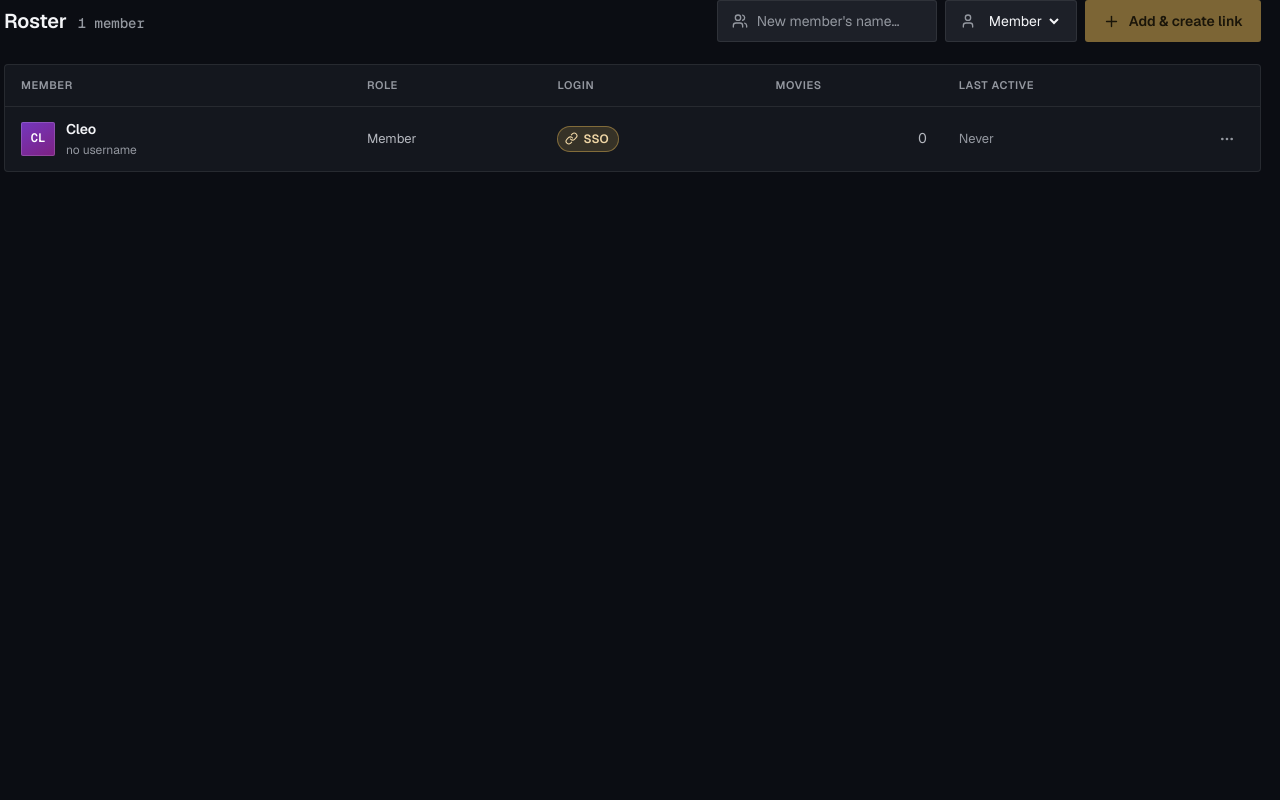
it: opening a ceremony from a member's row › offers a first set, unprefilled, for a member who has SSO but no password
Click the button named "Actions for Cleo": [1227, 138] box [1210,122,1244,156]
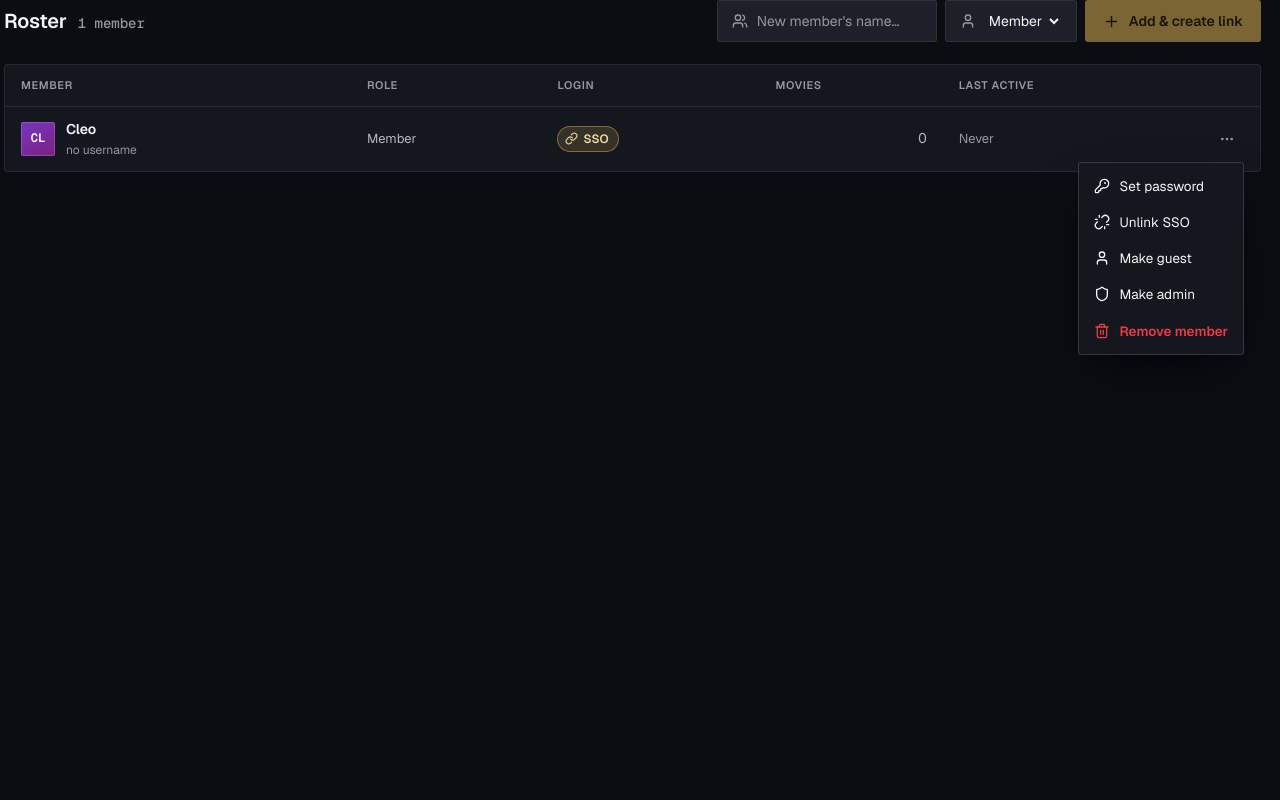
Click the menu item "Set password": [1161, 186] box [1084,168,1238,204]
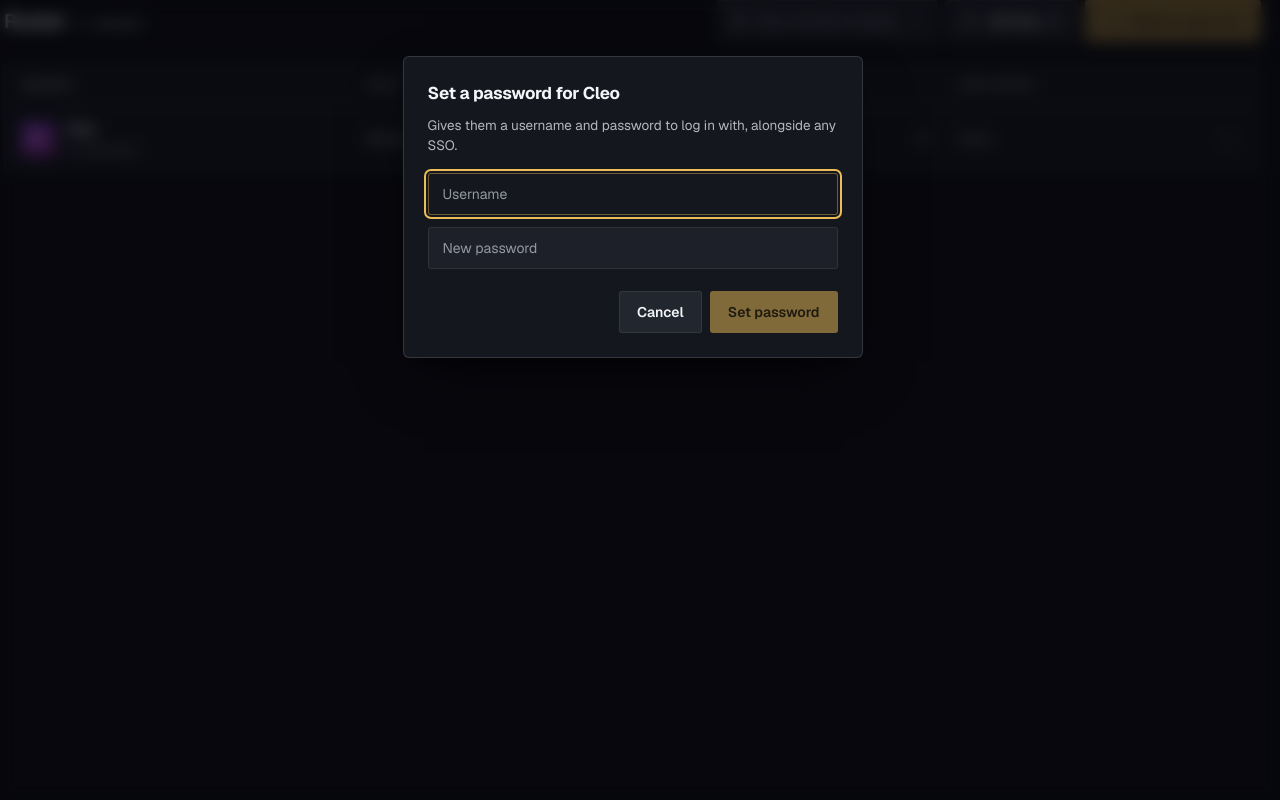
Result: the heading reads "Set a password for Cleo" at [428,82,620,104]
Result: the field labelled "Username" is empty at [442,185,822,203]
